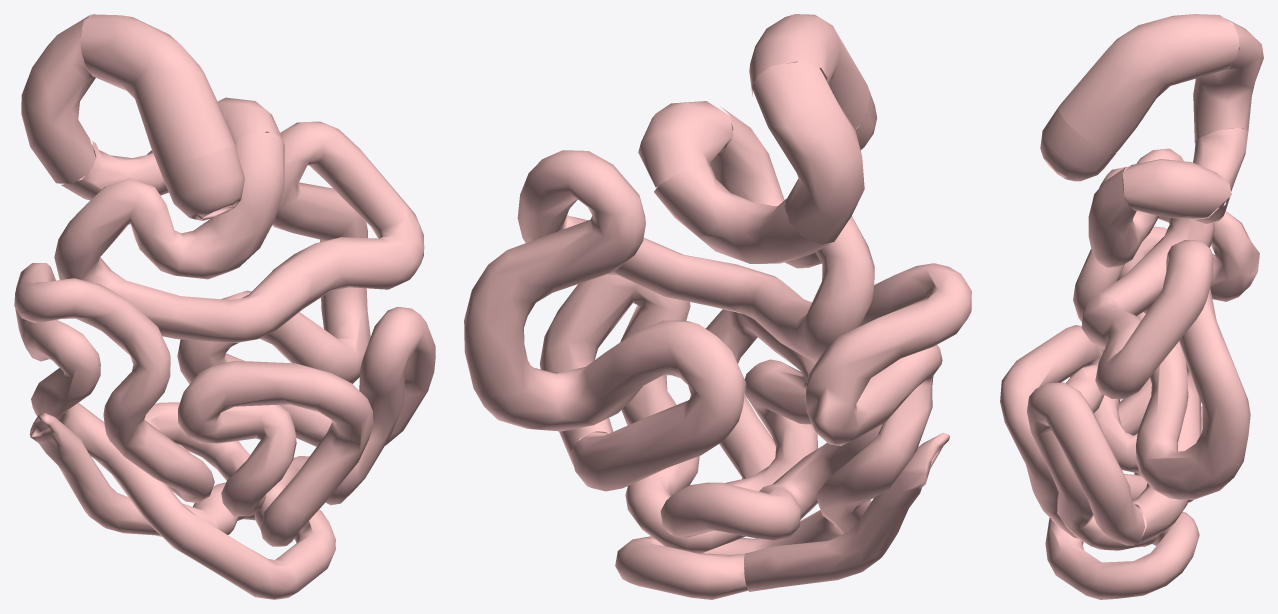
The model's file is vh_f_small_intestine-20.glb.
3 renders of one model, left to right at view 1: azimuth 30°, elevation 25°; view 2: azimuth 150°, elevation 25°; view 3: azimuth 270°, elevation 25°, orthographic. The views are drawn at different scales.
Visible parts, largest first — view 1: VH_F_ileum, VH_F_jejenum, VH_F_duodenum_superior, VH_F_duodenum_descending, VH_F_ileum_terminal, VH_F_duodenal_ampulla, VH_F_duodenum_horizontal, VH_F_duodenum_ascending; view 2: VH_F_ileum, VH_F_jejenum, VH_F_duodenum_descending, VH_F_ileum_terminal, VH_F_duodenum_horizontal, VH_F_duodenum_superior, VH_F_duodenum_ascending; view 3: VH_F_jejenum, VH_F_ileum, VH_F_duodenum_superior, VH_F_duodenum_ascending, VH_F_duodenum_descending, VH_F_duodenal_ampulla, VH_F_duodenum_horizontal.
Boxes of the visible parts, left/top/right/bottom form: VH_F_ileum: left=14, top=263, right=435, bottom=599; VH_F_jejenum: left=54, top=121, right=424, bottom=446; VH_F_duodenum_superior: left=80, top=14, right=234, bottom=174; VH_F_duodenum_descending: left=21, top=14, right=95, bottom=183; VH_F_ileum_terminal: left=29, top=413, right=217, bottom=536; VH_F_duodenal_ampulla: left=162, top=146, right=244, bottom=220; VH_F_duodenum_horizontal: left=61, top=141, right=168, bottom=200; VH_F_duodenum_ascending: left=217, top=97, right=283, bottom=141; VH_F_ileum: left=540, top=263, right=971, bottom=599; VH_F_jejenum: left=464, top=106, right=874, bottom=491; VH_F_duodenum_descending: left=751, top=62, right=864, bottom=244; VH_F_ileum_terminal: left=744, top=433, right=949, bottom=591; VH_F_duodenum_horizontal: left=654, top=163, right=830, bottom=263; VH_F_duodenum_superior: left=749, top=14, right=869, bottom=129; VH_F_duodenum_ascending: left=638, top=101, right=733, bottom=188; VH_F_jejenum: left=1081, top=148, right=1250, bottom=541; VH_F_ileum: left=1000, top=166, right=1259, bottom=599; VH_F_duodenum_superior: left=1058, top=14, right=1239, bottom=152; VH_F_duodenum_ascending: left=1122, top=159, right=1231, bottom=219; VH_F_duodenum_descending: left=1193, top=18, right=1263, bottom=142; VH_F_duodenal_ampulla: left=1040, top=107, right=1116, bottom=181; VH_F_duodenum_horizontal: left=1191, top=127, right=1248, bottom=223.
Bounding box in the file's own units: 0.1617 × 0.217 × 0.1003.
